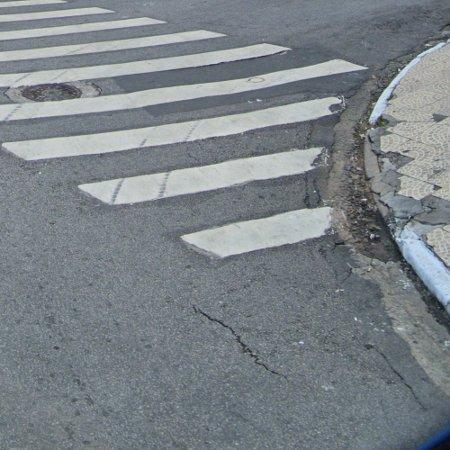crosswalks: (0, 0, 374, 265)
